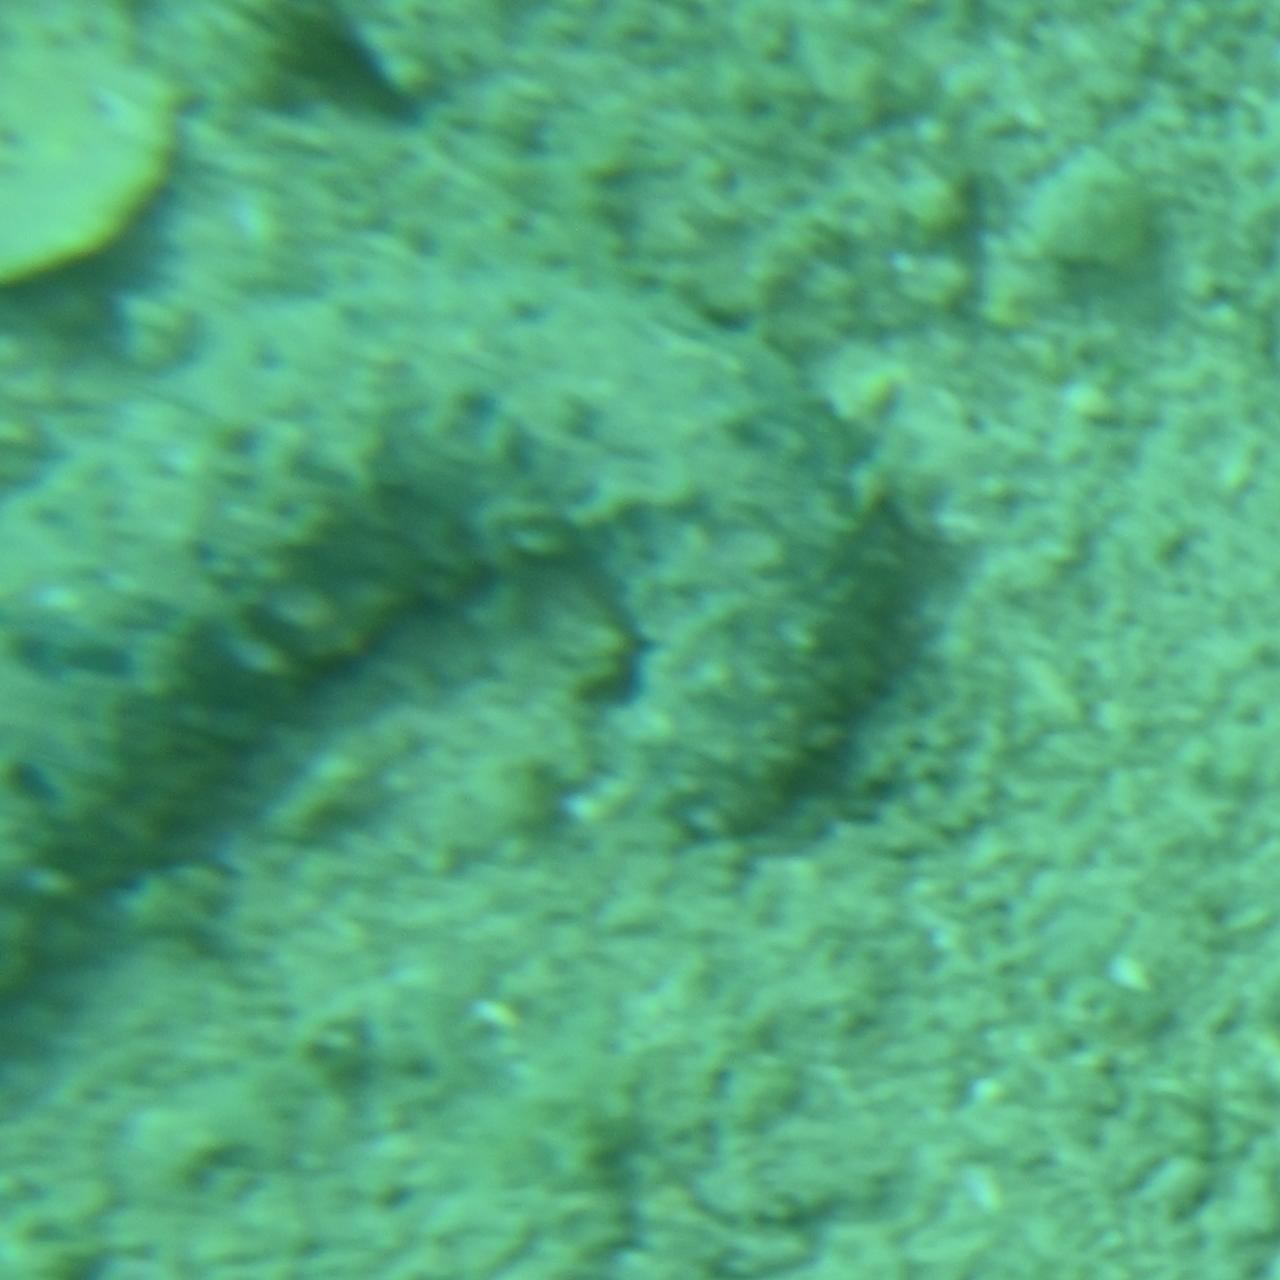Holothuria tubulosa: (0, 248, 916, 1032)
